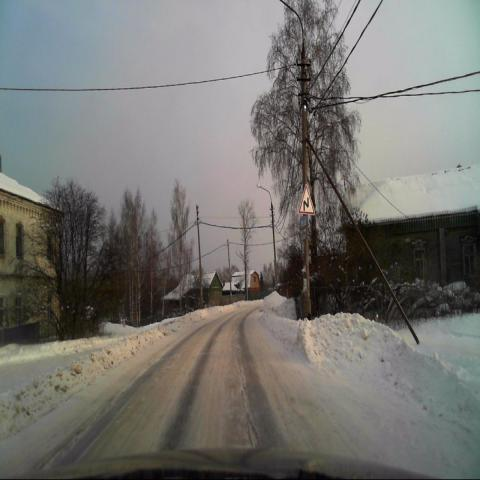1_12: (299, 183, 315, 215)
